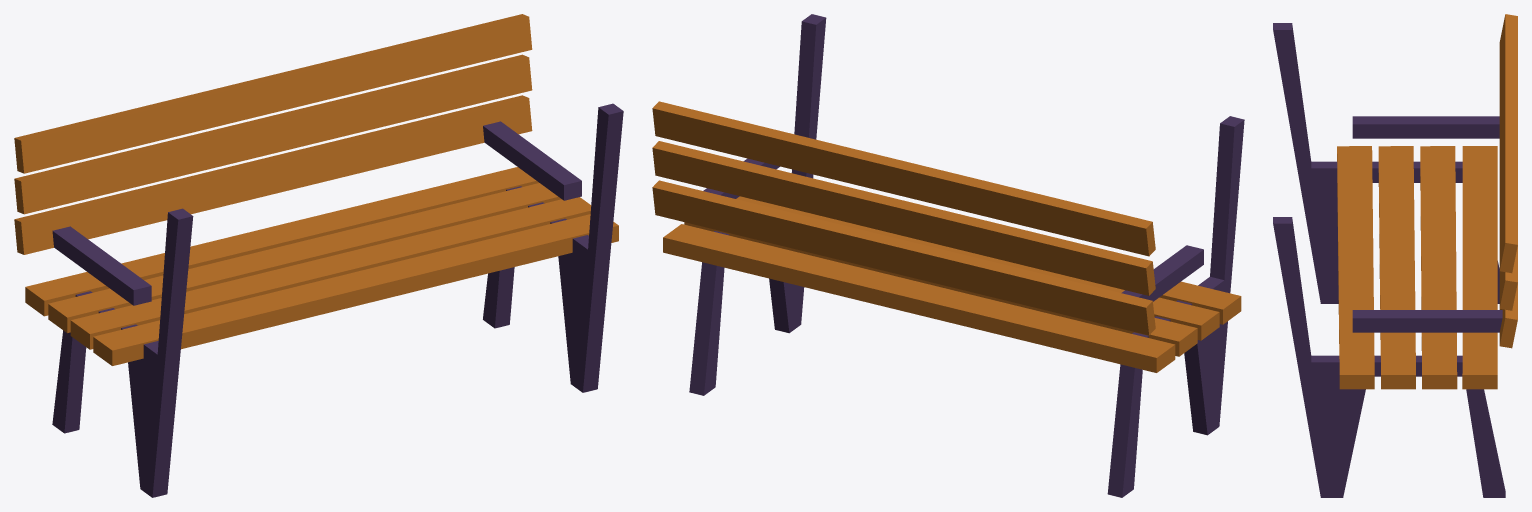
The model's file is banc.glb.
3 renders of one model, left to right at view 1: azimuth 30°, elevation 25°; view 2: azimuth 150°, elevation 25°; view 3: azimuth 270°, elevation 25°, orthographic. The views are drawn at different scales.
Parts seen in each view (by area): view 1: corps__orange, corps__violet_nuit; view 2: corps__orange, corps__violet_nuit; view 3: corps__orange, corps__violet_nuit.
Boxes of the visible parts, bbox=[...] form: corps__orange: bbox=[14, 14, 618, 365]; corps__violet_nuit: bbox=[52, 103, 623, 497]; corps__orange: bbox=[652, 101, 1241, 372]; corps__violet_nuit: bbox=[689, 14, 1244, 497]; corps__orange: bbox=[1337, 14, 1517, 389]; corps__violet_nuit: bbox=[1273, 23, 1505, 497].
Size of the model in its own units: 1.7 by 0.95 by 0.7686.
